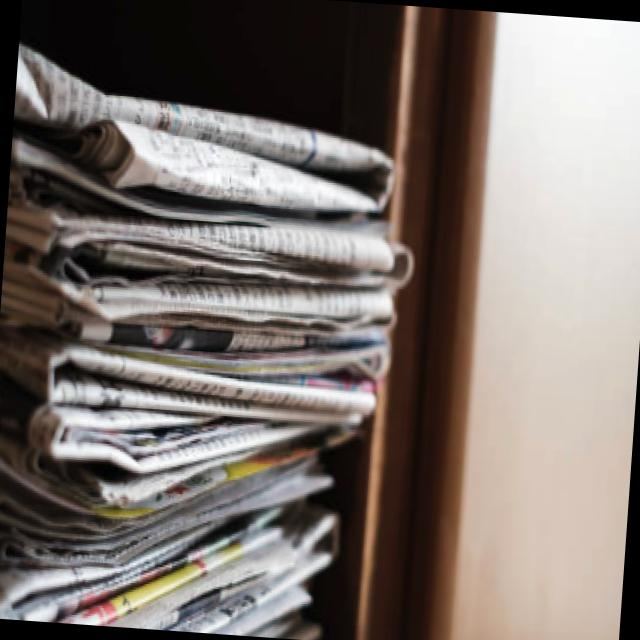Koran: (0, 25, 428, 640)
